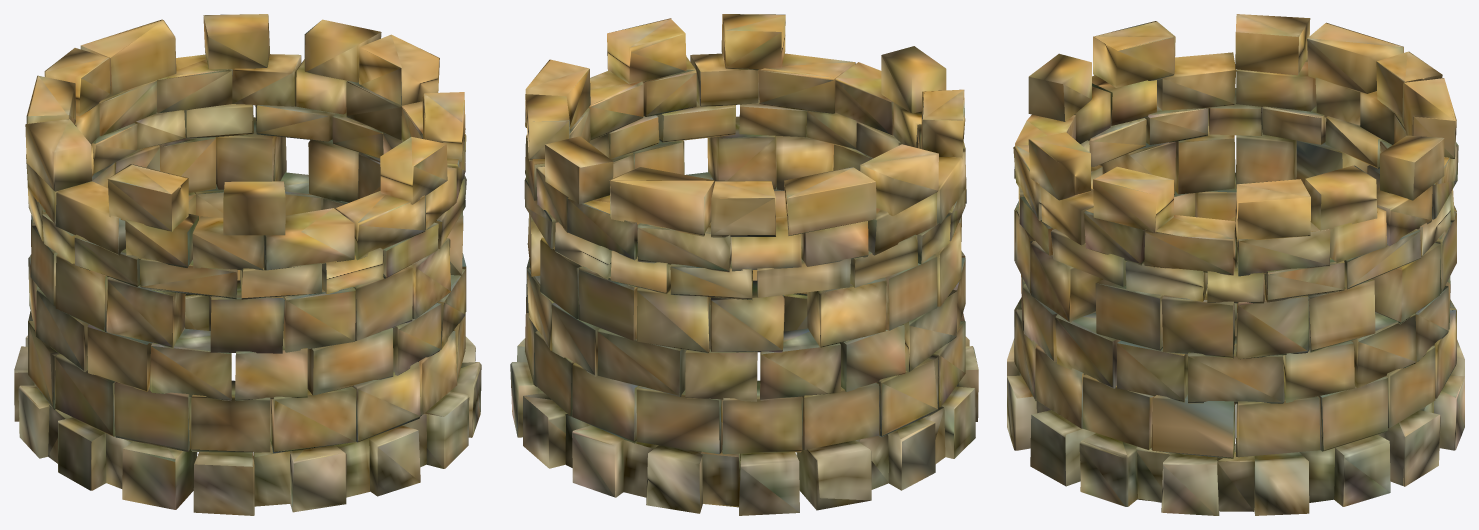
The model's file is tower.lod1.glb.
3 views of the same model, side by side, from view 1: azimuth 30°, elevation 25°; view 2: azimuth 150°, elevation 25°; view 3: azimuth 270°, elevation 25° (orthographic).
Bounding box in the file's own units: 4 × 3 × 4.
1 material, 1 textured.
